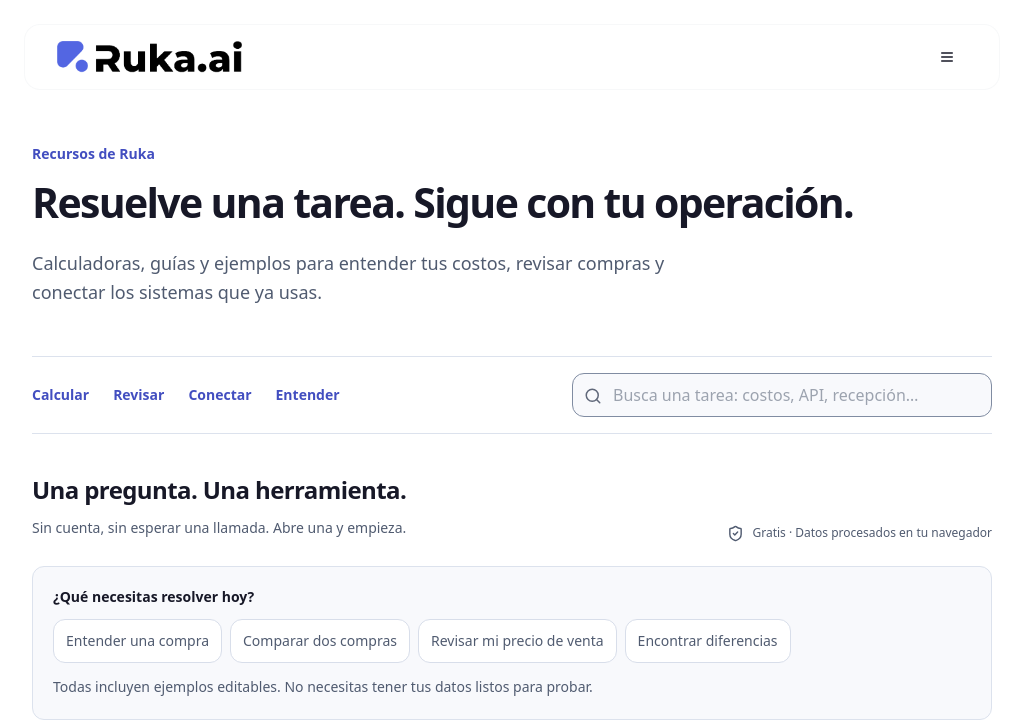
Test: resource discovery › finds API and unaccented tasks, provides recovery and keeps category anchors
Type "api" into the search field named "Buscar un recurso" at (782, 394), box [572,372,992,416]
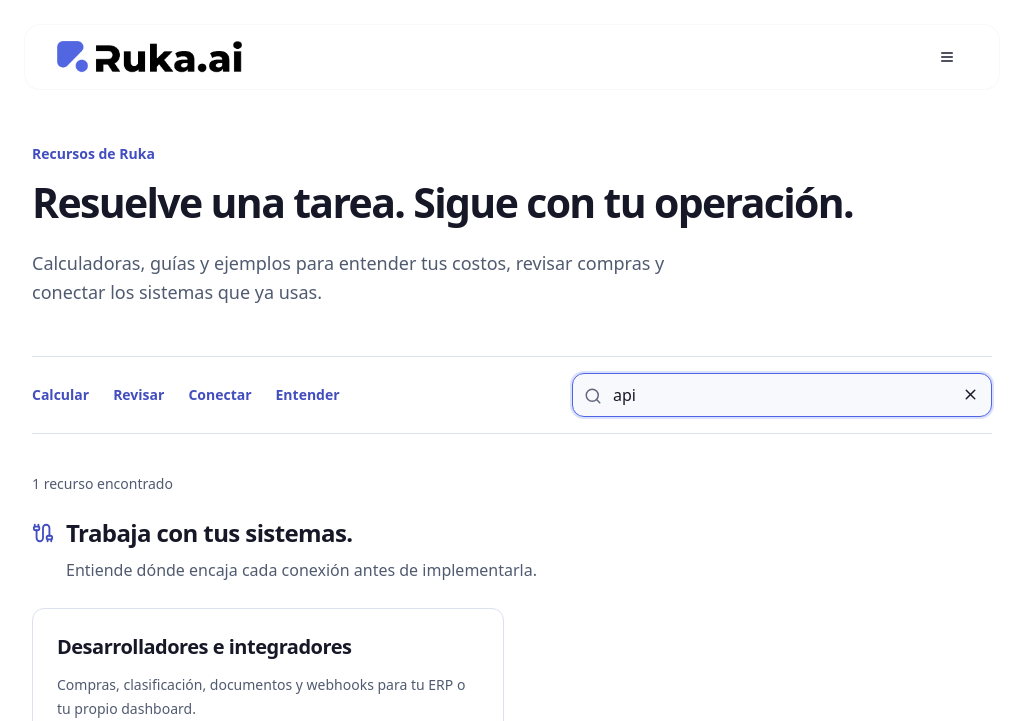
Expected: the heading "Desarrolladores e integradores" is shown, [57,632,351,660]
Replace the text in the search field named "Buscar un recurso" with "recepcion" at (782, 394), box [572,372,992,416]
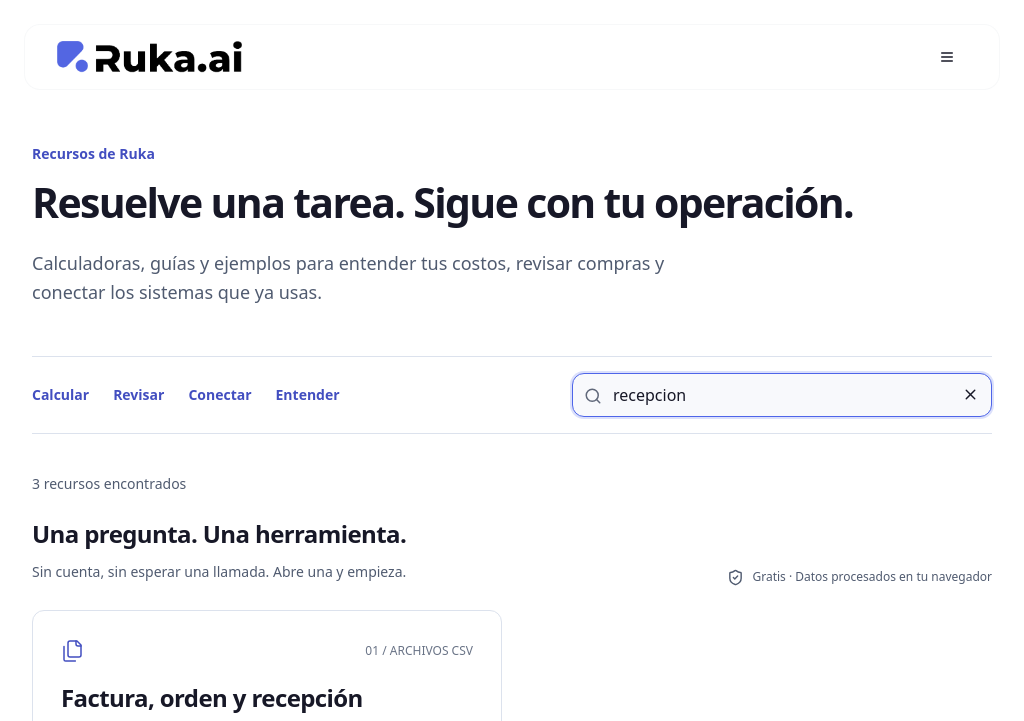
Replace the text in the search field named "Buscar un recurso" with "zzzzzz" at (782, 394), box [572,372,992,416]
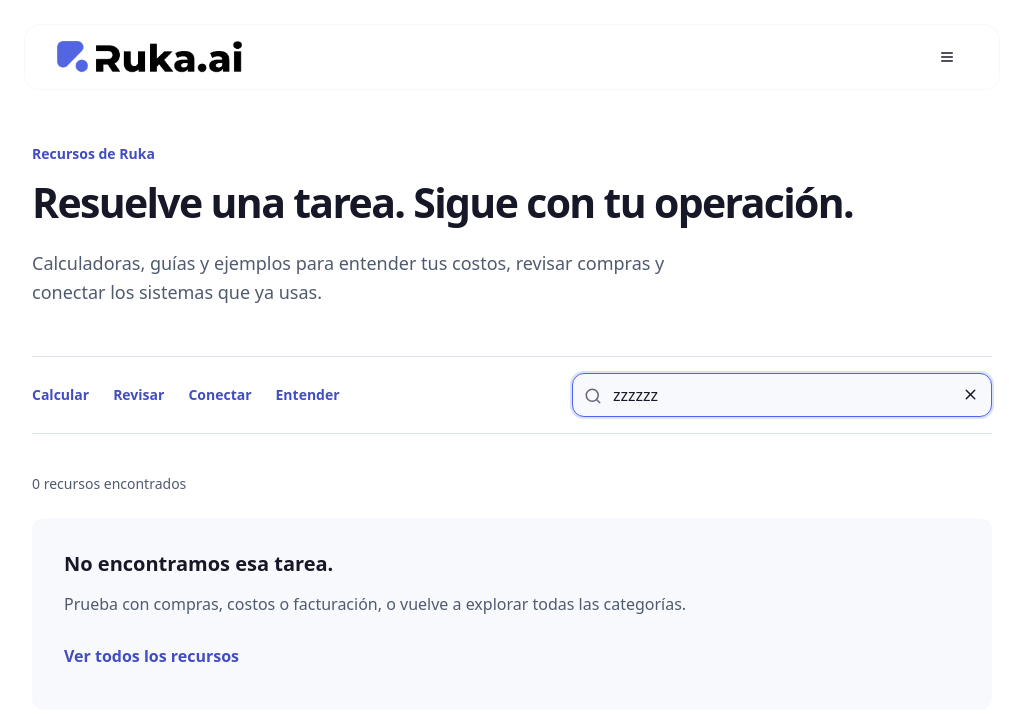
Result: the heading "No encontramos esa tarea." is shown at [64,550,333,576]
Click the link "Calcular" at (61, 394), box [32,384,89,404]
(page scrolled)
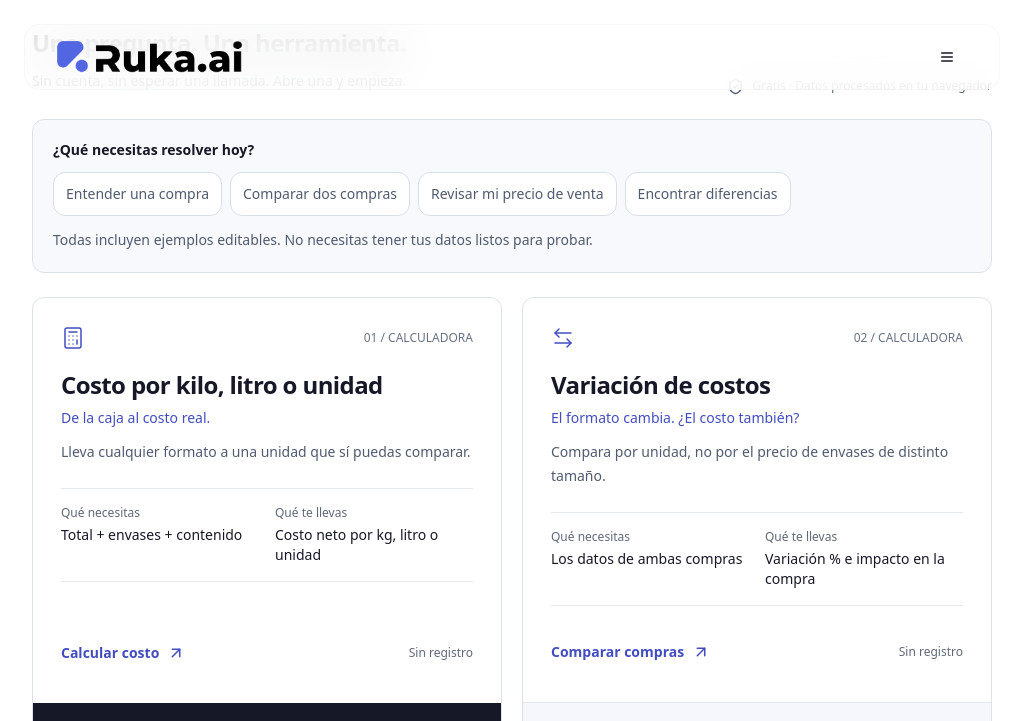
Result: the heading "Costo por kilo, litro o unidad" is shown at [61,368,383,400]
